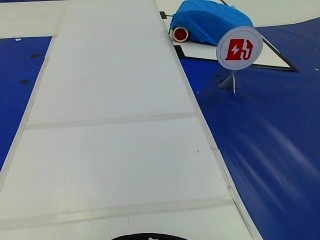battery: (221, 31, 256, 65)
car: (164, 2, 263, 42)
